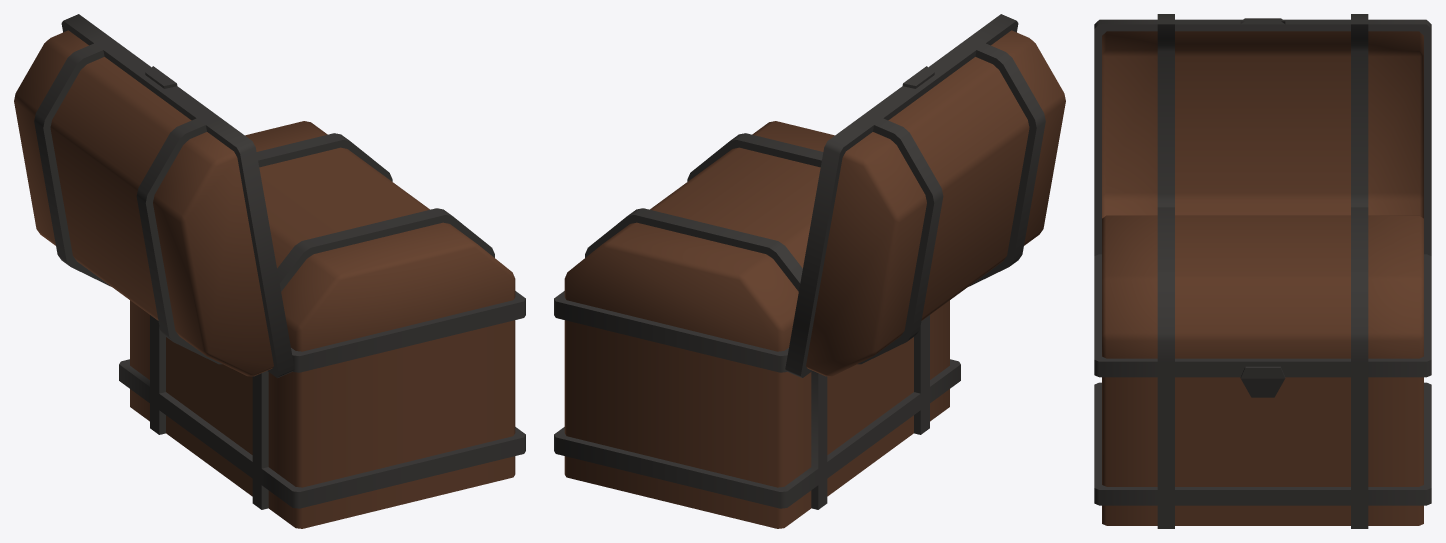
File: truhla.glb
3 views of the same model, side by side, from view 1: azimuth 30°, elevation 25°; view 2: azimuth 150°, elevation 25°; view 3: azimuth 270°, elevation 25° (orthographic). The views are drawn at different scales.
Parts seen in each view (by area): view 1: zavreno, otevreno; view 2: zavreno, otevreno; view 3: zavreno, otevreno.
Boxes of the visible parts, <box> form: zavreno: <box>119,121,525,528</box>; otevreno: <box>14,14,294,377</box>; zavreno: <box>554,121,960,528</box>; otevreno: <box>785,14,1065,377</box>; zavreno: <box>1094,207,1431,528</box>; otevreno: <box>1094,14,1431,255</box>.
Bounding box in the file's own units: 0.8678 × 0.9525 × 0.7625.
